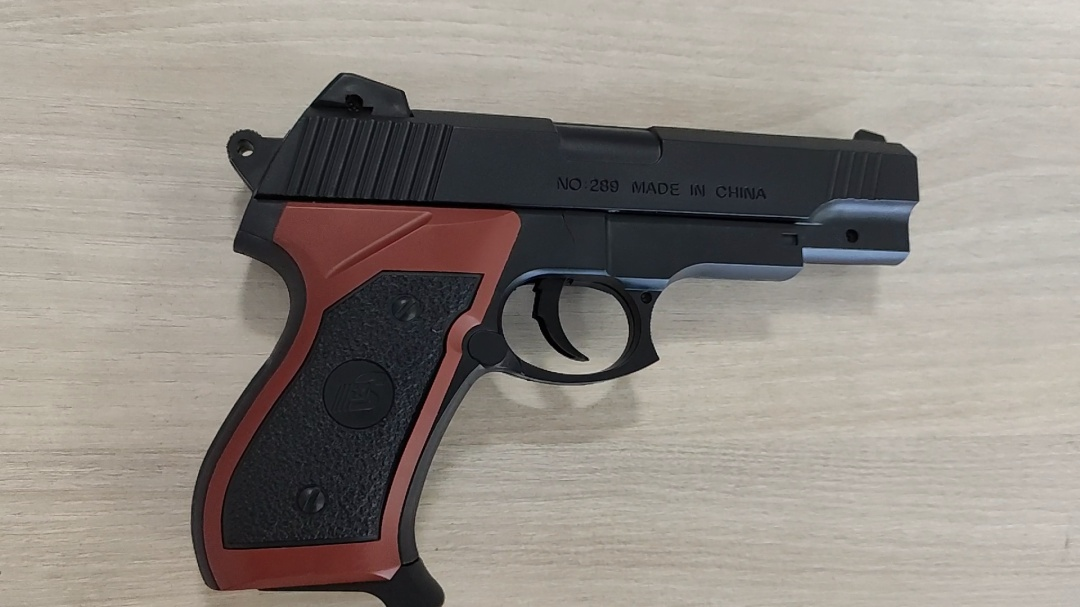gun: (187, 67, 925, 606)
